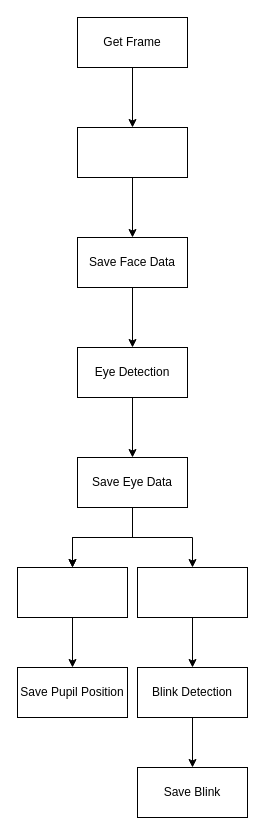
The diagram is 265 pixels wide and 835 high, and some of its shapes have lost their labels. The box of each missing label's shape, as (x1, y1, x2, y2) in pixels:
Calculate EAR: (136, 566, 248, 618)
Detect Face: (76, 126, 188, 178)
Detect Pupil: (16, 566, 128, 618)
